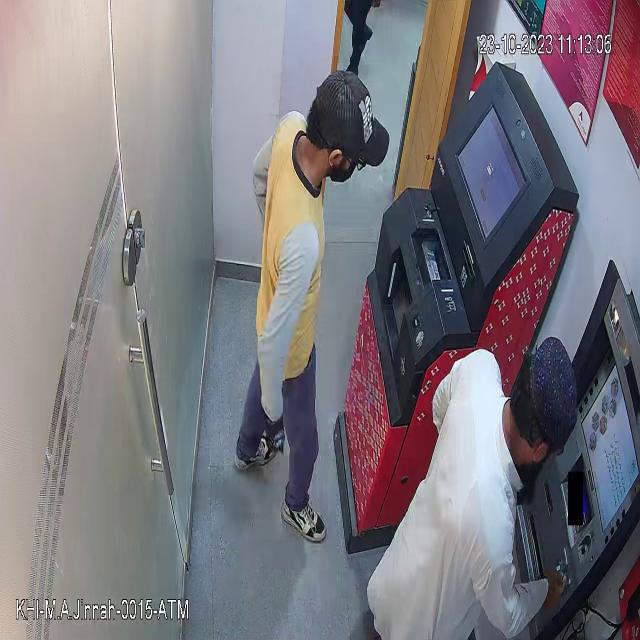atm-card: (552, 549, 573, 581)
